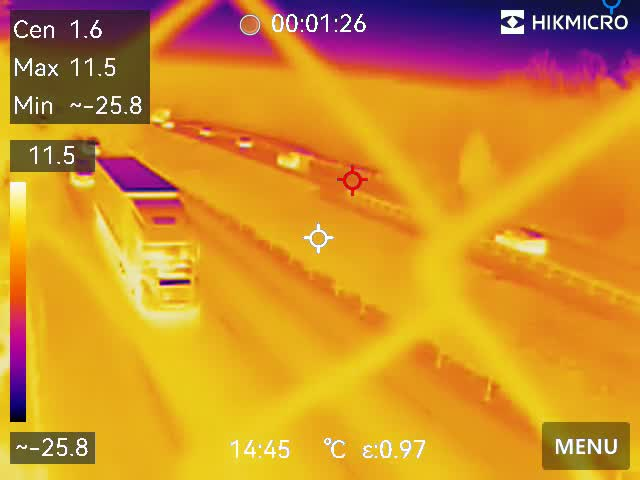heavyTruck: (88, 152, 207, 330)
vehicle: (490, 221, 549, 255), (273, 151, 313, 170), (234, 133, 258, 152), (195, 122, 216, 139), (158, 120, 178, 128)
